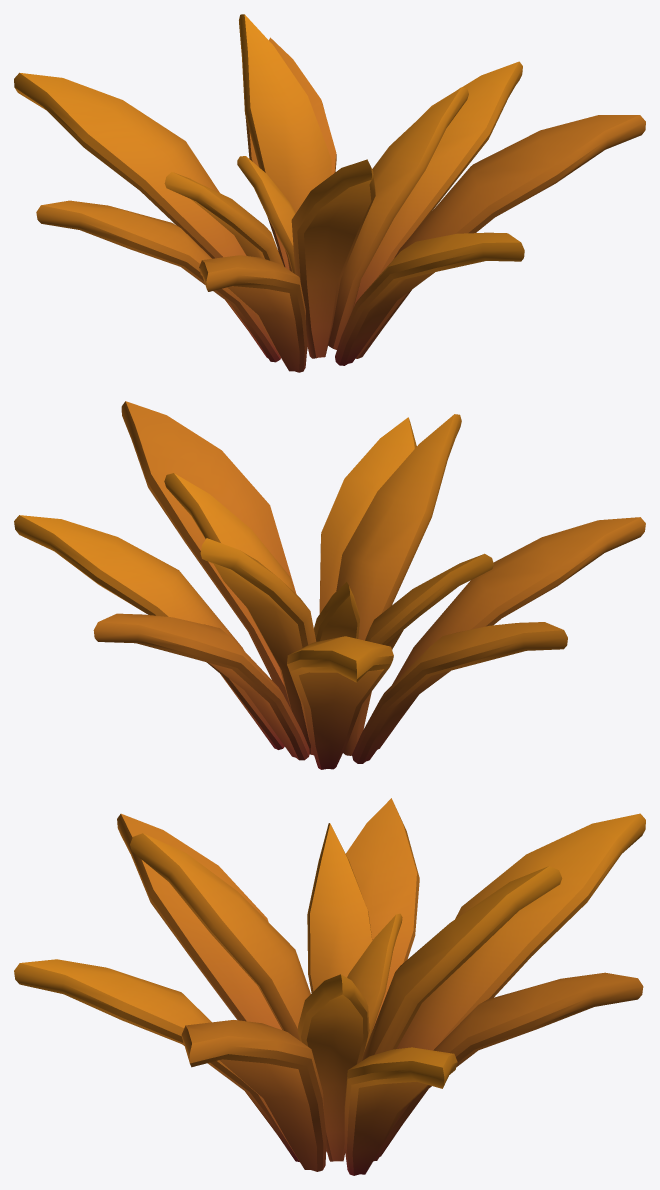
File: garden_plant_8.glb
3 renders of one model, top to bottom at view 1: azimuth 30°, elevation 25°; view 2: azimuth 150°, elevation 25°; view 3: azimuth 270°, elevation 25°, orthographic. The views are drawn at different scales.
Visible parts, largest first — view 1: garden_plant_8; view 2: garden_plant_8; view 3: garden_plant_8.
Part boxes in pixels (x1,y1,x2,y2): garden_plant_8: [14, 14, 645, 372]; garden_plant_8: [14, 401, 645, 769]; garden_plant_8: [14, 798, 645, 1175].
Size of the model in its own units: 1.54 by 0.7571 by 1.44.
Materials: 1 (1 with a texture image).
